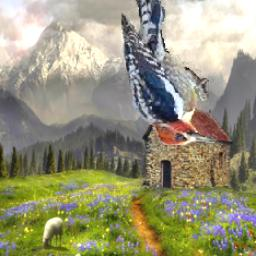Woodpecker: (121, 0, 218, 145)
